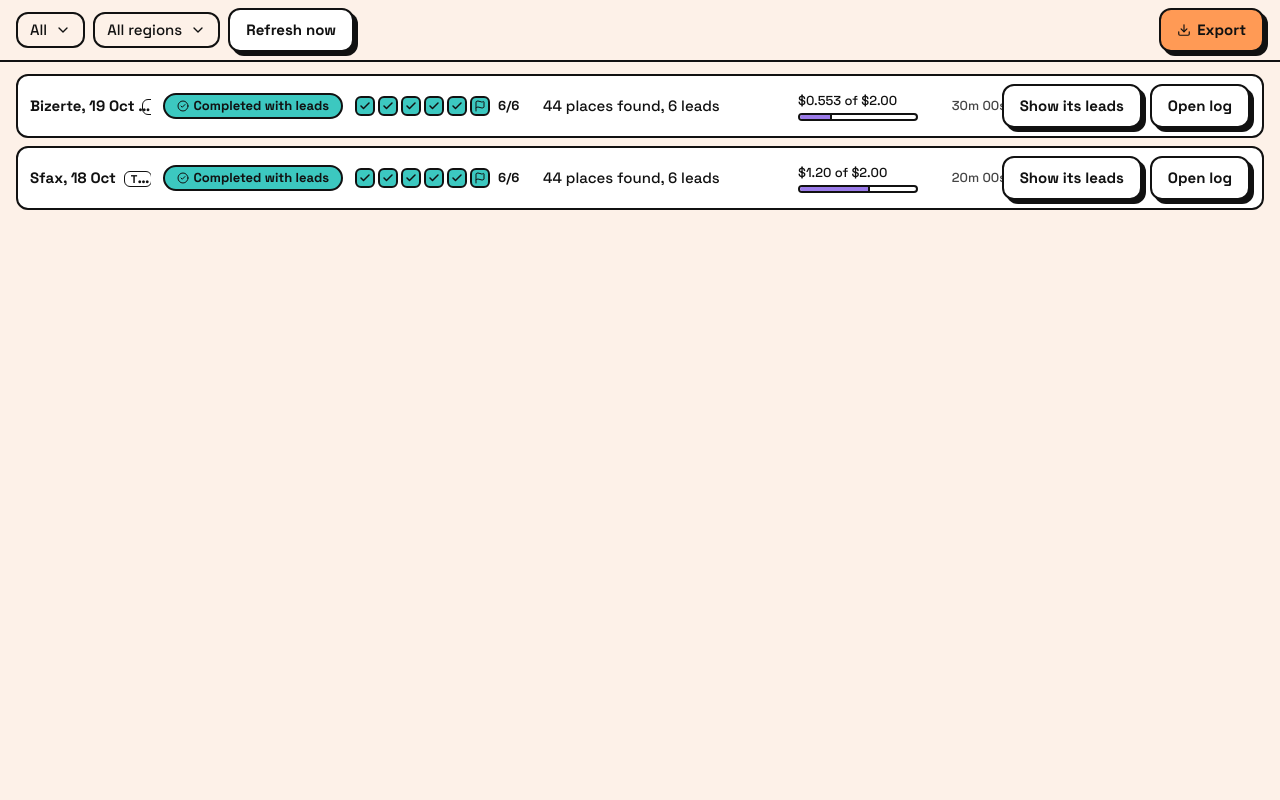
it: Logs export mode › downloads leadgen-logs-YYYY-MM-DD.txt as UTF-8 text
This screenshot has width=1280, height=800.
Check: the text "Bizerte, 19 Oct" is shown, box [30,96,134,115]
Step 1. Click the button "Export" → (1212, 30), box [1159,8,1264,52]
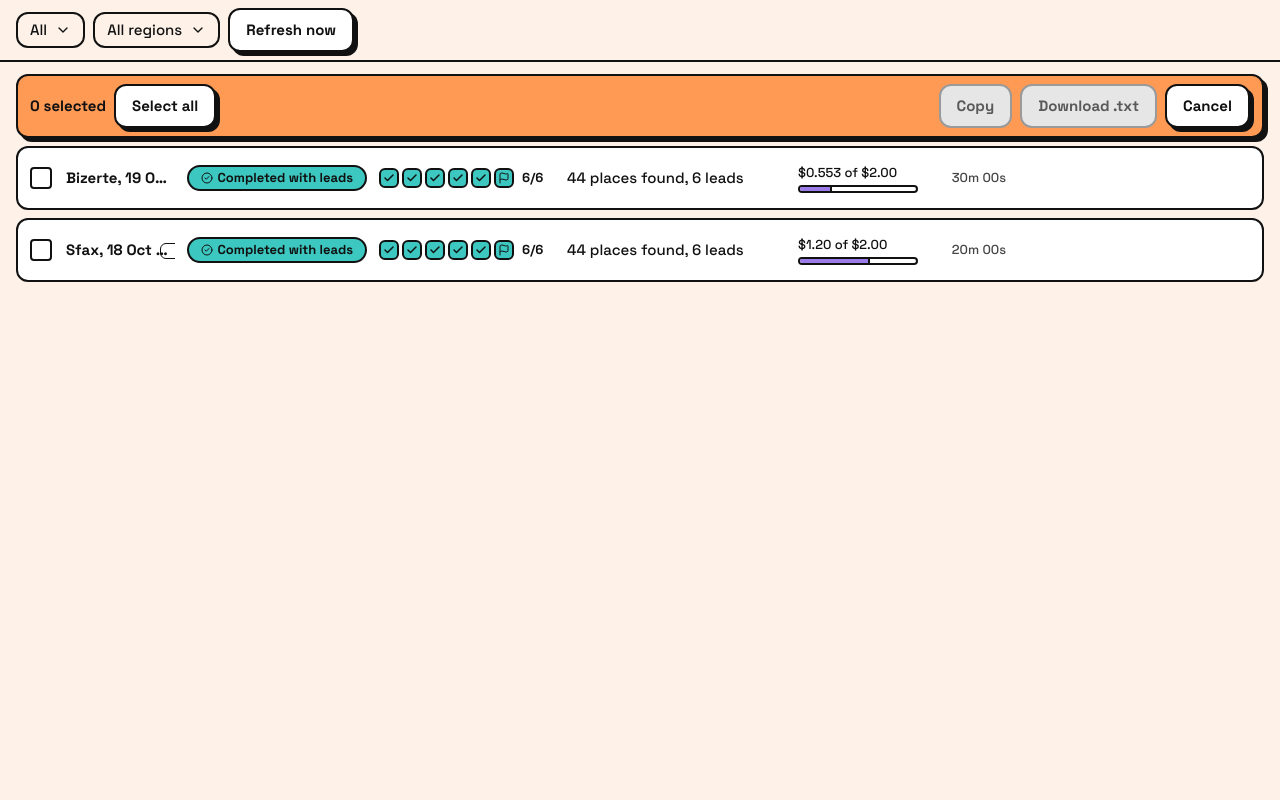
Step 2. Click the button "Select all" → (165, 106), box [114,84,216,128]
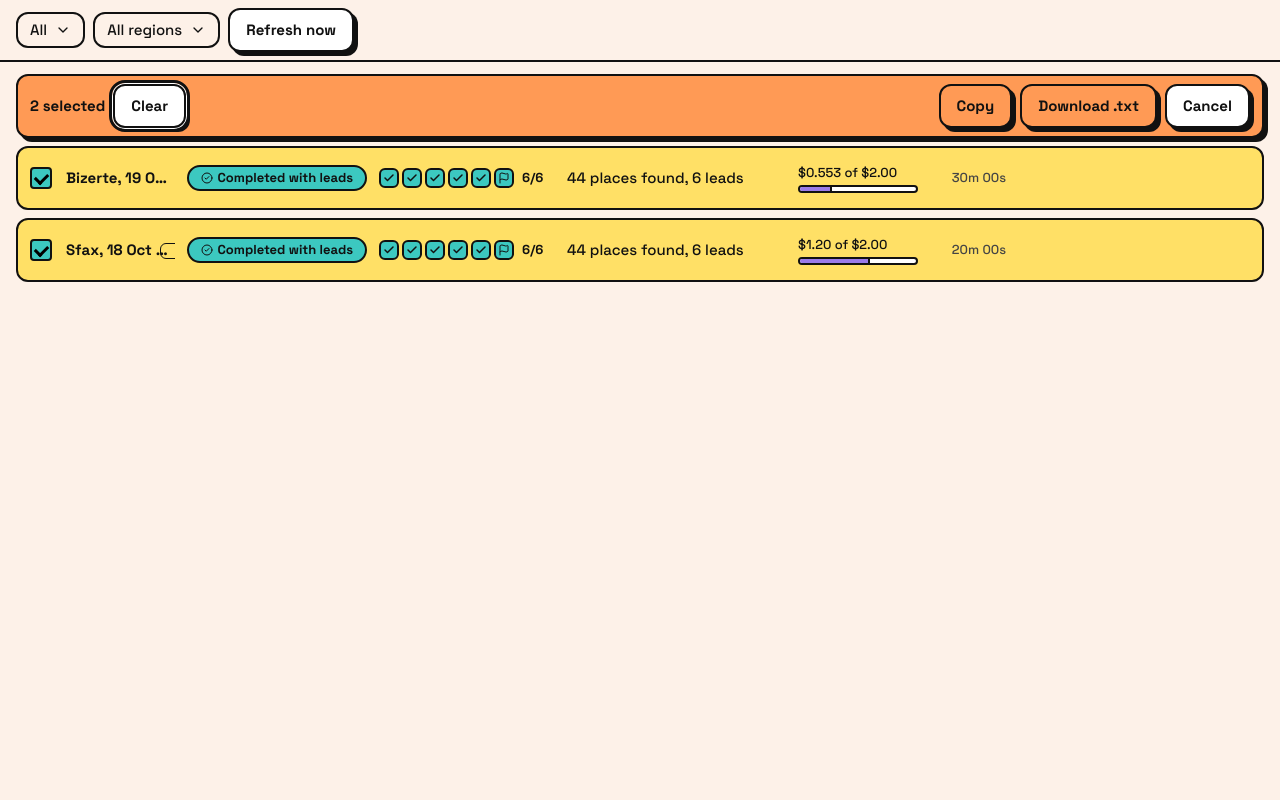
Step 3. Click the button "Download .txt" → (1089, 106), box [1020,84,1157,128]
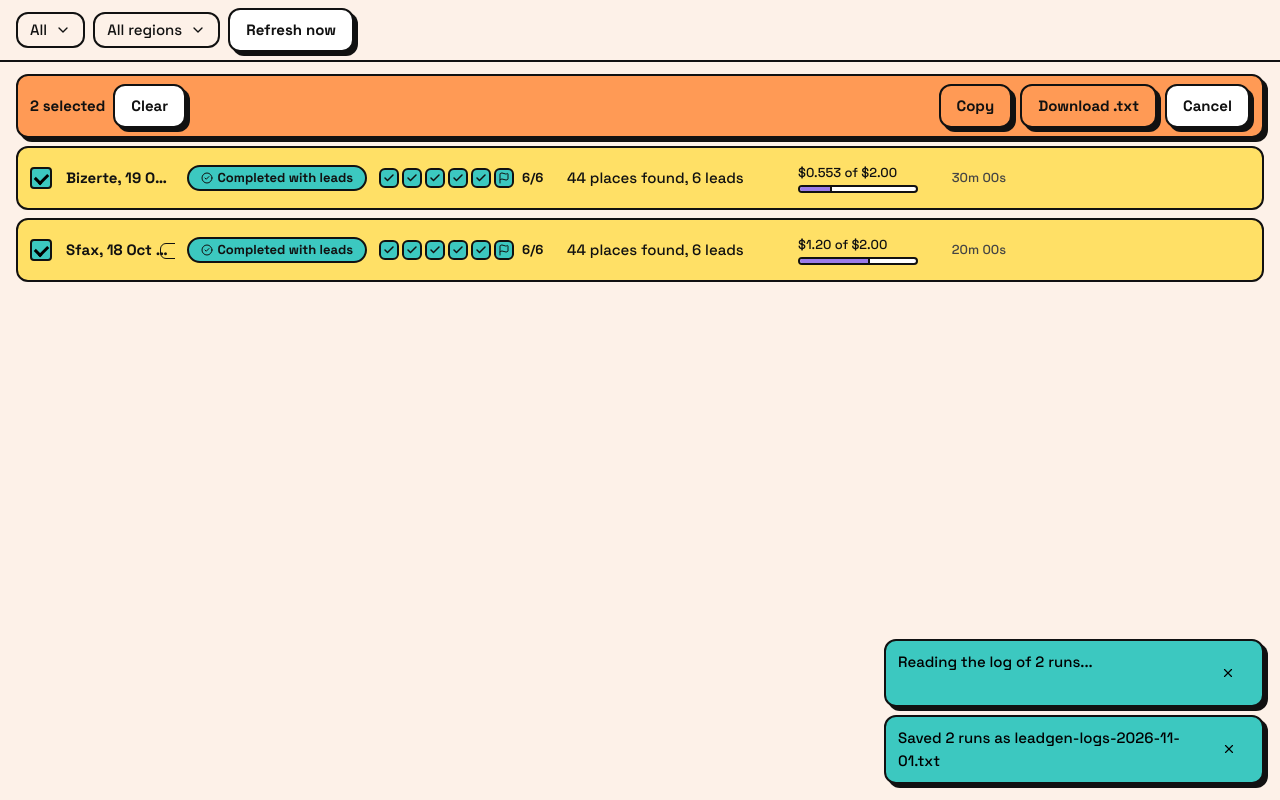
Check: the text "Saved 2 runs as leadgen-logs-2026-11-01.txt" is shown, box [898,727,1201,772]
